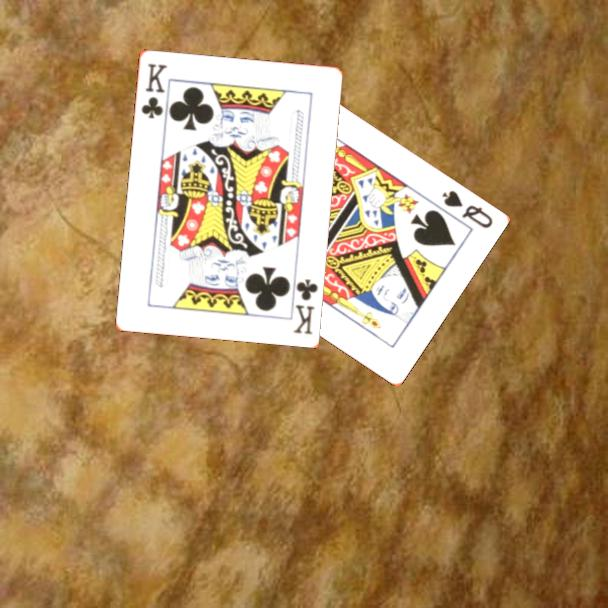c13: (137, 59, 170, 121), (289, 275, 320, 337)
s12: (438, 187, 495, 231)
